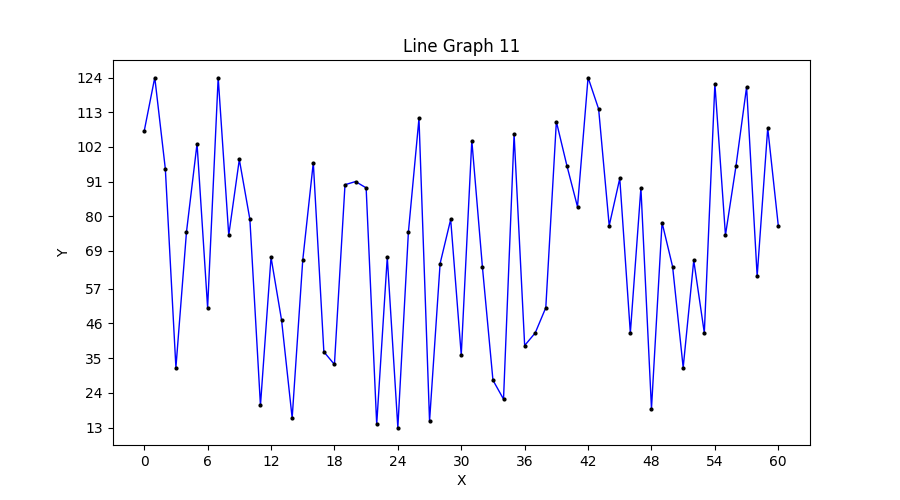cvs: (113, 60, 810, 445)
